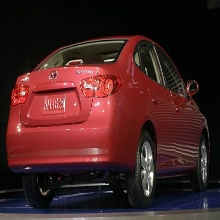no damage: (6, 35, 212, 208)
